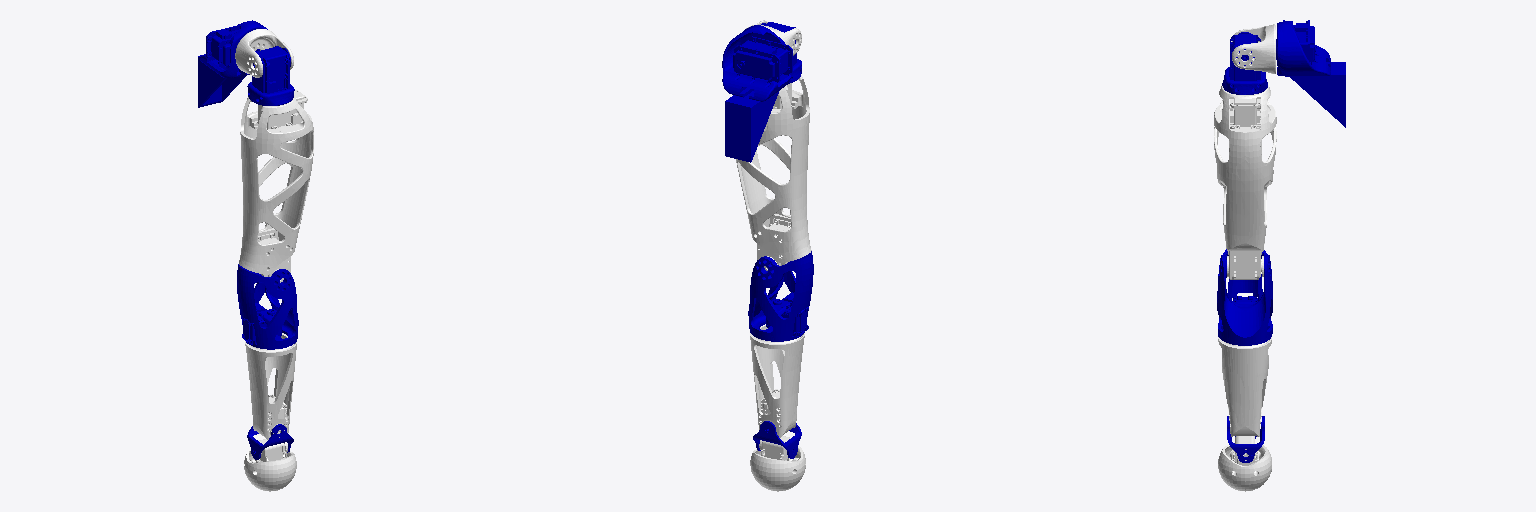
The robot description file, URDF, robot "Reachy":
<?xml version="1.0"?>
<robot name="Reachy">

  <material name="blue">
    <color rgba="0 0 0.8 1"/>
  </material>

  <material name="white">
    <color rgba="1 1 1 1"/>
  </material>

  <material name="red">
    <color rgba="0.8 0 0 1"/>
  </material>

  <link name="base">
    <visual>
      <geometry>
        <mesh filename="package://meshes/shoulder-y-visual.stl"></mesh>
      </geometry>
      <material name="blue"/>
    </visual>
    <inertial>
      <inertia ixx= "1.043e-4" ixy= "6.147e-6" ixz= "-1.971e-6" iyy= "1.364e-4" iyz= "1.466e-5" izz= "1.403e-4" ></inertia>
      <mass value="0.221"></mass>
    </inertial>
    <collision>
      <origin xyz="0 0 0" rpy="0 0 0"></origin>
      <geometry>
        <mesh filename="package://meshes/shoulder-y-respondable.stl"></mesh>
      </geometry>
    </collision>
  </link>

  <link name="shoulder">
    <visual>
      <origin xyz="0 0 0" rpy="0 0 0"></origin>
      <geometry>
        <mesh filename="package://meshes/shoulder-visual.stl"></mesh>
      </geometry>
      <material name="white"/>
    </visual>
    <inertial>
      <inertia ixx= "1.299e-5" ixy= "5.557e-10" ixz= "-2.973e-10" iyy= "2.323e-5" iyz= "-8.199e-8" izz= "2.227e-5" ></inertia>
      <mass value="0.036"></mass>
    </inertial>
    <collision>
      <origin xyz="0 0 0" rpy="0 0 0"></origin>
      <geometry>
        <mesh filename="package://meshes/shoulder-respondable.stl"></mesh>
      </geometry>
    </collision>

  </link>

  <link name="shoulder_to_arm">
    <visual>
      <geometry>
        <mesh filename="package://meshes/shoulder-x-visual.stl"></mesh>
      </geometry>
      <origin rpy="0 0 0" xyz="0 0 0"/>
      <material name="blue"/>
    </visual>
    <inertial>
      <inertia ixx= "6.811e-5" ixy= "-2.299e-10" ixz= "-4.502e-7" iyy= "7.593e-5" iyz= "-1.674e-9" izz= "4.248e-5" ></inertia>
      <mass value="0.155"></mass>
    </inertial>
    <collision>
      <origin xyz="0 0 0" rpy="0 0 0"></origin>
      <geometry>
        <mesh filename="package://meshes/shoulder-x-respondable.stl"></mesh>
      </geometry>
    </collision>
  </link>

  <link name="upper_arm">
    <visual>
      <geometry>
        <mesh filename="package://meshes/upper-arm-visual.stl"></mesh>
      </geometry>
      <origin rpy="0 0 0" xyz="0 0 0"/>
      <material name="white"/>
    </visual>
    <inertial>
      <inertia ixx= "4.171e-3" ixy= "1.333e-7" ixz= "-2.900e-4" iyy= "4.276e-3" iyz= "1.465e-6" izz= "3.177e-4" ></inertia>
      <mass value="0.430"></mass>
    </inertial>
    <collision>
      <origin xyz="0 0 0" rpy="0 0 0"></origin>
      <geometry>
        <mesh filename="package://meshes/upper-arm-respondable.stl"></mesh>
      </geometry>
    </collision>
  </link>

  <link name="forearm">
    <visual>
      <origin xyz="0 0 0" rpy="0 0 0"></origin>
      <geometry>
        <mesh filename="package://meshes/forearm-visual.stl"></mesh>
      </geometry>
      <origin rpy="0 0 0" xyz="0 0 0"/>
      <material name="blue"/>
    </visual>
    <inertial>
      <inertia ixx= "1.724e-4" ixy= "-1.733e-8" ixz= "1.854e-5" iyy= "1.815e-4" iyz= "-4.191e-8" izz= "9.299e-5" ></inertia>
      <mass value="0.129"></mass>
    </inertial>
    <collision>
      <origin xyz="0 0 0" rpy="0 0 0"></origin>
      <geometry>
        <mesh filename="package://meshes/forearm-respondable.stl"></mesh>
      </geometry>
    </collision>
  </link>

  <link name="wrist">
    <visual>
      <origin xyz="0 0 0" rpy="0 0 0"></origin>
      <geometry>
        <mesh filename="package://meshes/wrist-visual.stl"></mesh>
      </geometry>
      <origin rpy="0 0 0" xyz="0 0 0"/>
      <material name="white"/>
    </visual>
    <inertial>
      <inertia ixx= "2.215e-4" ixy= "-2.163e-8" ixz= "-4.702e-6" iyy= "2.306e-4" iyz= "-6.577e-7" izz= "5.075e-5" ></inertia>
      <mass value="0.115"></mass>
    </inertial>
    <collision>
      <origin xyz="0 0 0" rpy="0 0 0"></origin>
      <geometry>
        <mesh filename="package://meshes/wrist-respondable.stl"></mesh>
      </geometry>
    </collision>
  </link>

  <link name="wrist_hand">
    <visual>
      <geometry>
        <mesh filename="package://meshes/wrist-hand-visual.stl"></mesh>
      </geometry>
      <origin rpy="0 0 0" xyz="0 0 0"/>
      <material name="blue"/>
    </visual>
    <inertial>
      <inertia ixx= "3.861e-6" ixy= "-2.805e-9" ixz= "-8.067e-8" iyy= "3.694e-6" iyz= "-7.689e-8" izz= "4.987e-6" ></inertia>
      <mass value="0.009"></mass>
    </inertial>
    <collision>
      <origin xyz="0 0 0" rpy="0 0 0"></origin>
      <geometry>
        <mesh filename="package://meshes/wrist-hand-respondable.stl"></mesh>
      </geometry>
    </collision>

  </link>

  <link name="hand_ball">
    <visual>
      <geometry>
        <mesh filename="package://meshes/ball-tip-visual.stl"></mesh>
      </geometry>
      <origin rpy="0 0 0" xyz="0 0 0"/>
      <material name="white"/>
    </visual>
    <inertial>
      <inertia ixx= "4.177e-5" ixy= "2.340e-9" ixz= "3.492e-8" iyy= "4.290e-5" iyz= "-2.318e-11" izz= "3.596e-5" ></inertia>
      <mass value="0.090"></mass>
    </inertial>
    <collision>
      <origin xyz="0 0 0" rpy="0 0 0"></origin>
      <geometry>
        <mesh filename="package://meshes/ball-tip-respondable.stl"></mesh>
      </geometry>
    </collision>
  </link>

<!--   <link name="ball">
    <visual>
      <geometry>
        <sphere radius="0.02"/>
      </geometry>
      <origin rpy="0 0 0" xyz="0 0 0"/>
      <material name="red"/>
    </visual>
  </link> -->

  <joint name="shoulder_pitch" type="revolute">
    <parent link="base"/>
    <child link="shoulder"/>
    <origin rpy="0 0 0" xyz="0 -0.04 0"/>
    <axis xyz="0 1 0"/>
    <limit lower="-1.5708" upper="3.14159"/>
  </joint>

  <joint name="shoulder_roll" type="revolute">
    <parent link="shoulder"/>
    <child link="shoulder_to_arm"/>
    <origin rpy="0 0 0" xyz="0 0 0"/>
    <axis xyz="1 0 0"/>
    <limit lower="-3.14159" upper="0.174533"/>
  </joint>

  <joint name="arm_yaw" type="revolute">
    <parent link="shoulder_to_arm"/>
    <child link="upper_arm"/>
    <origin rpy="0 0 0" xyz="0 0 0"/>
    <axis xyz="0 0 1"/>
    <limit lower="-1.5708" upper="1.5708"/>
  </joint>

  <joint name="elbow_pitch" type="revolute">
    <parent link="upper_arm"/>
    <child link="forearm"/>
    <origin rpy="0 0 0" xyz="0 0 -0.30745"/>
    <axis xyz="0 1 0"/>
    <limit lower="-2.18166" upper="0"/>
  </joint>

  <joint name="forearm_yaw" type="revolute">
    <parent link="forearm"/>
    <child link="wrist"/>
    <origin rpy="0 0 0" xyz="0 0 0"/>
    <axis xyz="0 0 1"/>
    <limit lower="-2.61799" upper="2.61799"/>
  </joint>

  <joint name="wrist_pitch" type="revolute">
    <parent link="wrist"/>
    <child link="wrist_hand"/>
    <origin rpy="0 0 0" xyz="0 0 -0.22425"/>
    <axis xyz="0 1 0"/>
    <limit lower="-1.22173" upper="1.22173"/>
  </joint>

  <joint name="wrist_roll" type="revolute">
    <parent link="wrist_hand"/>
    <child link="hand_ball"/>
    <origin rpy="0 0 0" xyz="0 0 -0.03243"/>
    <axis xyz="1 0 0"/>
    <limit lower="-1.0472" upper="1.0472"/>
  </joint>

</robot>

--- Render facts (derived) ---
The picture shows the robot from 3 angles, left to right: view 1: azimuth 30°, elevation 25°; view 2: azimuth 150°, elevation 25°; view 3: azimuth 270°, elevation 25°; orthographic projection.
Robot: Reachy — 8 links, 7 joints (7 revolute); root link base; default pose: every joint at zero.
Visible links, largest first — view 1: upper_arm, forearm, wrist, base, shoulder_to_arm, hand_ball, shoulder, wrist_hand; view 2: upper_arm, base, forearm, wrist, hand_ball, wrist_hand; view 3: upper_arm, base, forearm, wrist, hand_ball, shoulder, shoulder_to_arm, wrist_hand.
Link boxes in pixels (left/top/right/bottom): upper_arm: left=239, top=90, right=313, bottom=282; forearm: left=237, top=264, right=298, bottom=349; wrist: left=245, top=333, right=296, bottom=439; base: left=198, top=20, right=267, bottom=107; shoulder_to_arm: left=247, top=46, right=294, bottom=105; hand_ball: left=244, top=439, right=296, bottom=491; shoulder: left=235, top=29, right=293, bottom=77; wrist_hand: left=247, top=424, right=293, bottom=459; upper_arm: left=736, top=75, right=811, bottom=270; base: left=722, top=25, right=792, bottom=162; forearm: left=748, top=251, right=813, bottom=341; wrist: left=750, top=324, right=804, bottom=437; hand_ball: left=750, top=436, right=805, bottom=491; wrist_hand: left=753, top=421, right=801, bottom=458; upper_arm: left=1214, top=85, right=1276, bottom=279; base: left=1276, top=20, right=1345, bottom=127; forearm: left=1217, top=249, right=1272, bottom=345; wrist: left=1218, top=337, right=1271, bottom=436; hand_ball: left=1218, top=436, right=1271, bottom=491; shoulder: left=1232, top=24, right=1275, bottom=73; shoulder_to_arm: left=1222, top=32, right=1267, bottom=94; wrist_hand: left=1227, top=416, right=1264, bottom=462.
Size in the robot's own frame: 0.1112 by 0.1704 by 0.6598 metres.
Meshes: 8 distinct files referenced, 8 mesh visuals loaded (8 binary STL).